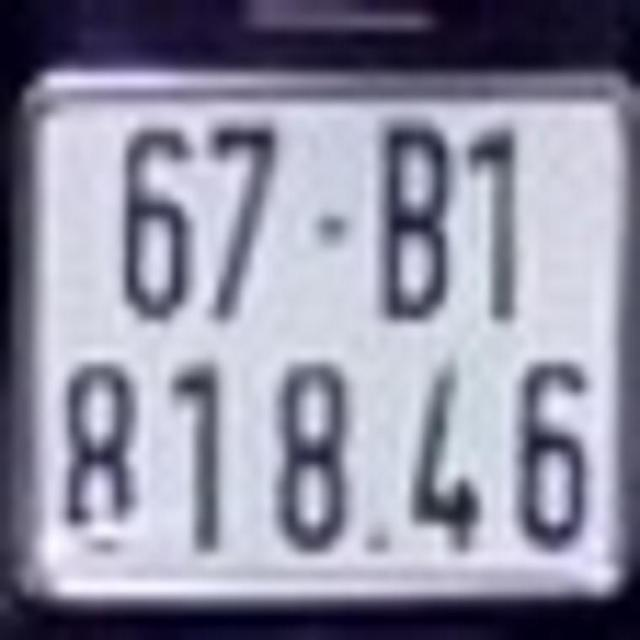1: (466, 116, 520, 332), (172, 350, 224, 558)
4: (417, 356, 482, 558)
6: (511, 354, 587, 554), (121, 123, 187, 311)
7: (210, 126, 274, 324)
8: (274, 362, 352, 549), (60, 362, 135, 552)
B: (385, 120, 449, 326)
